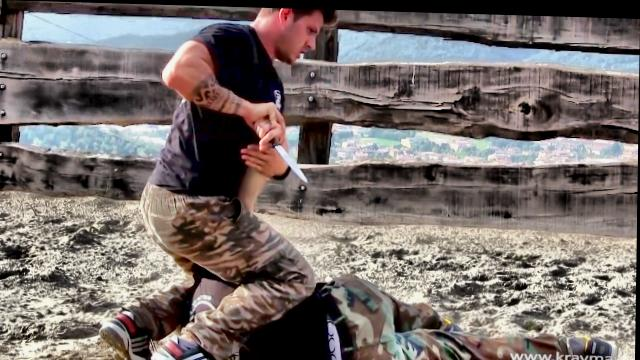knife: (253, 124, 313, 185)
